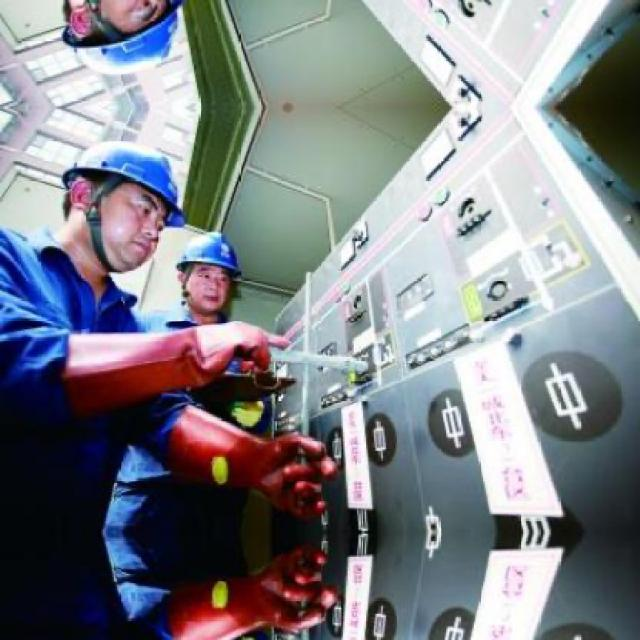helmet: (54, 134, 191, 274), (52, 0, 191, 80), (171, 225, 246, 322)
